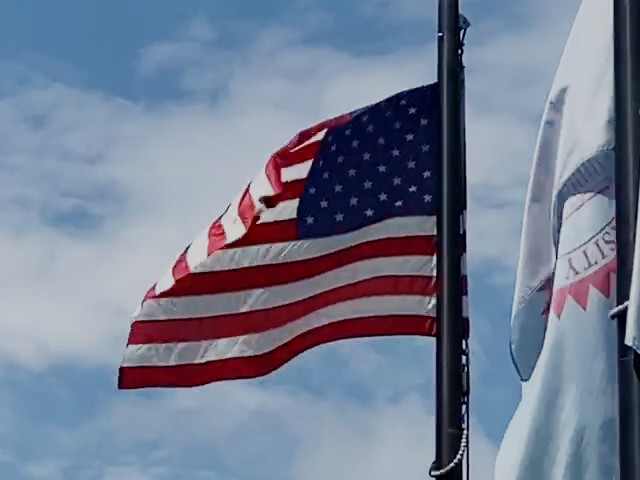America flag: (114, 82, 437, 390)
